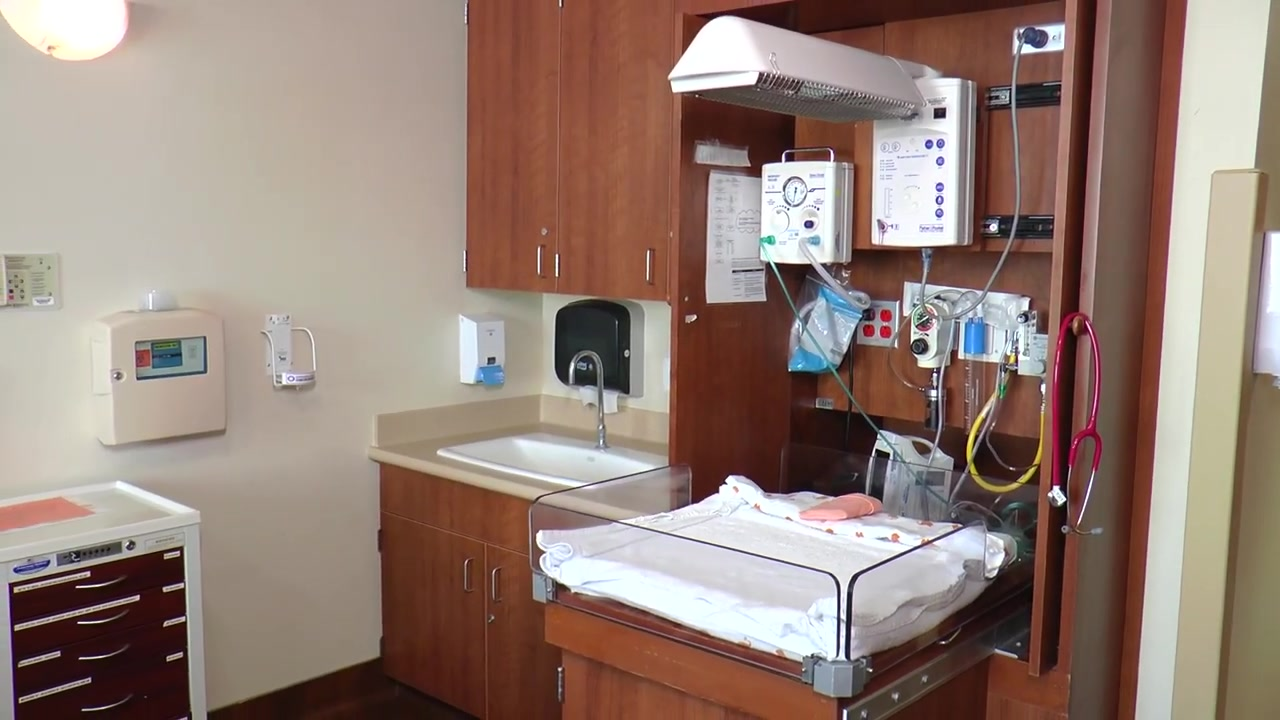cabinet: (464, 2, 671, 300)
counter: (361, 433, 666, 716)
dispenser: (552, 296, 646, 399), (459, 313, 505, 387)
faucet: (569, 349, 611, 452)
handle: (78, 643, 132, 661), (76, 608, 130, 625), (80, 696, 133, 713), (75, 576, 129, 590), (491, 566, 502, 602), (463, 556, 473, 593), (645, 247, 654, 284), (535, 244, 542, 277)
medical_drawer: (1, 480, 208, 720)
medical_waste_container: (93, 305, 227, 446)
panda_baby_warmer: (536, 14, 1052, 717)
sink: (436, 431, 667, 491)
